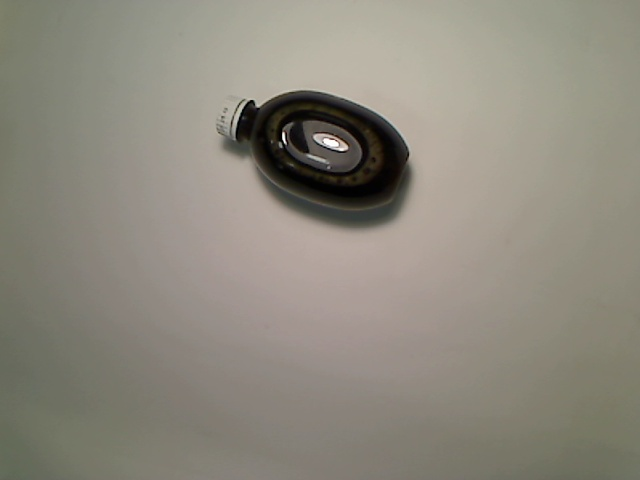plast_bottle: (214, 90, 411, 213)
